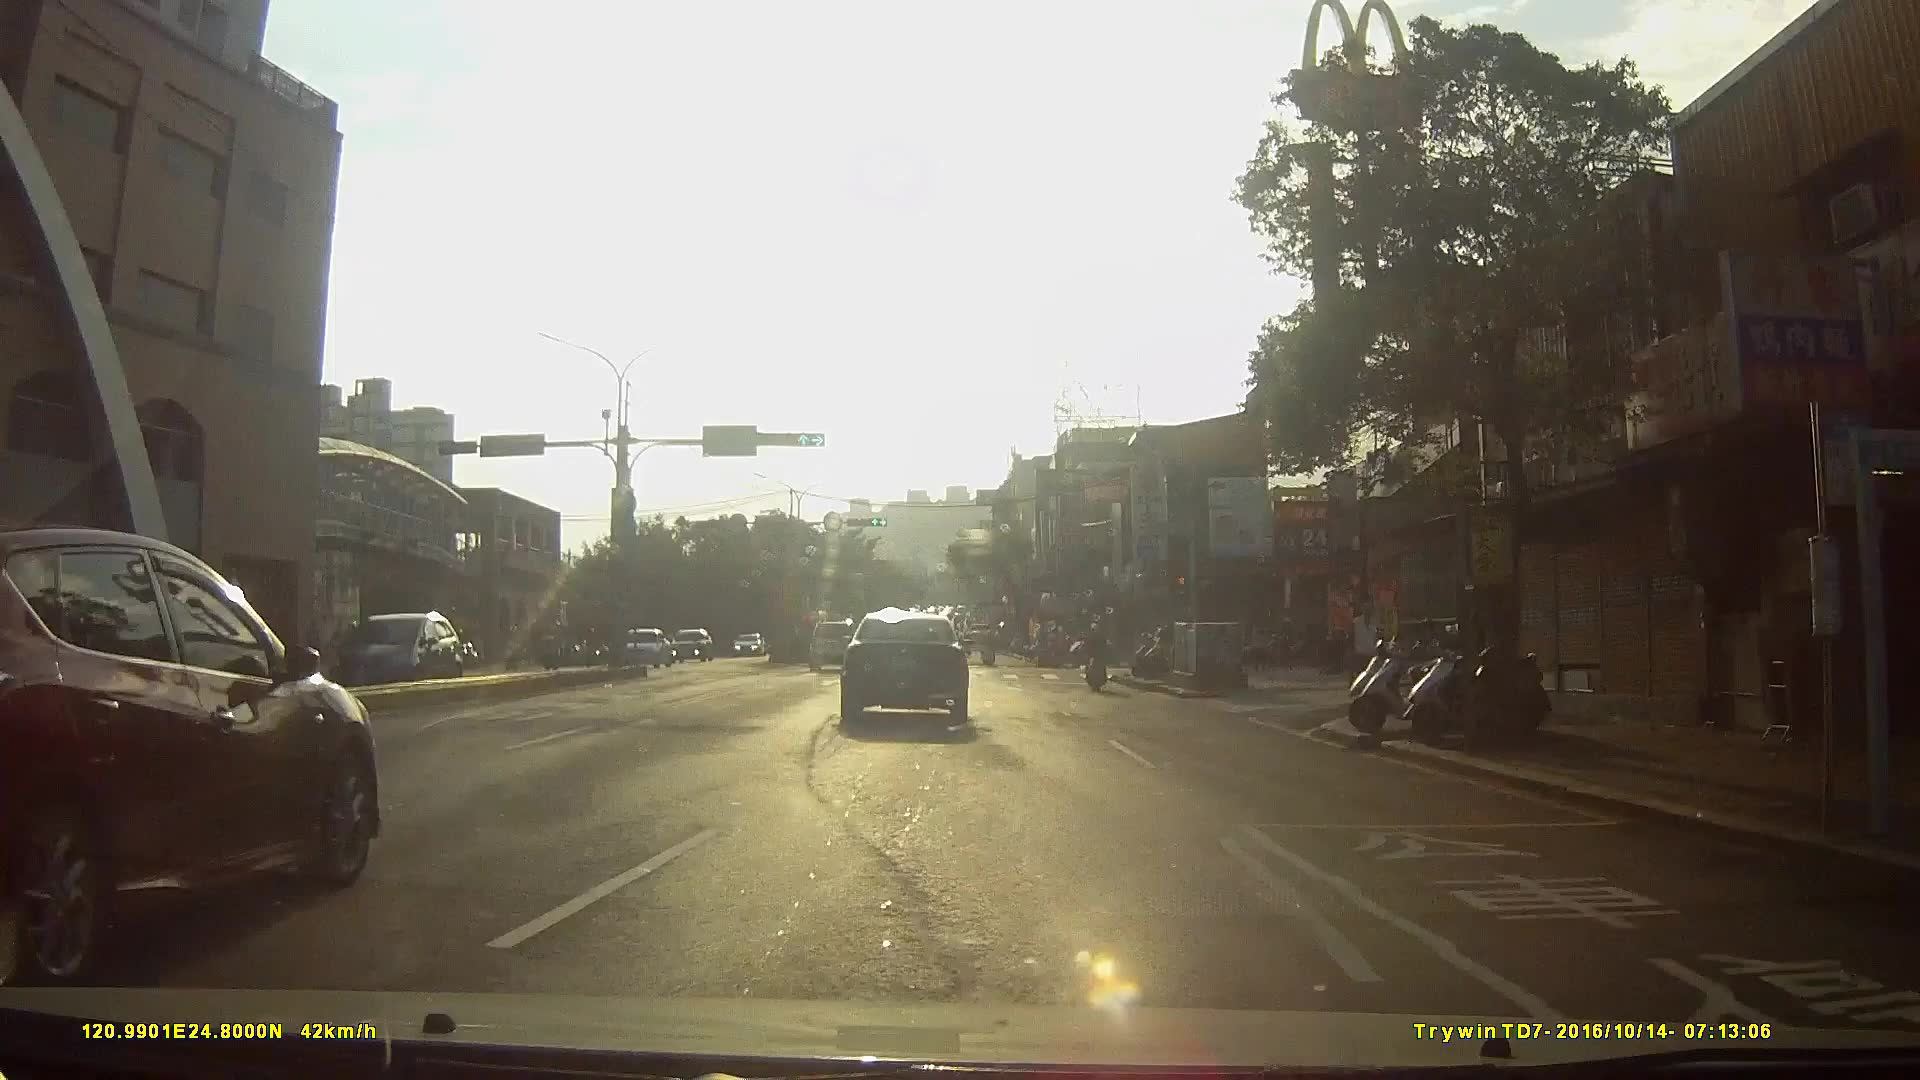pedestrian: (1345, 590, 1388, 696)
rider: (1081, 621, 1108, 692), (1038, 624, 1074, 668), (979, 626, 999, 666)
vehicle: (1, 519, 387, 992), (837, 611, 983, 735), (320, 602, 477, 694), (805, 616, 864, 671), (619, 628, 675, 670), (671, 626, 716, 666), (731, 628, 768, 656)
